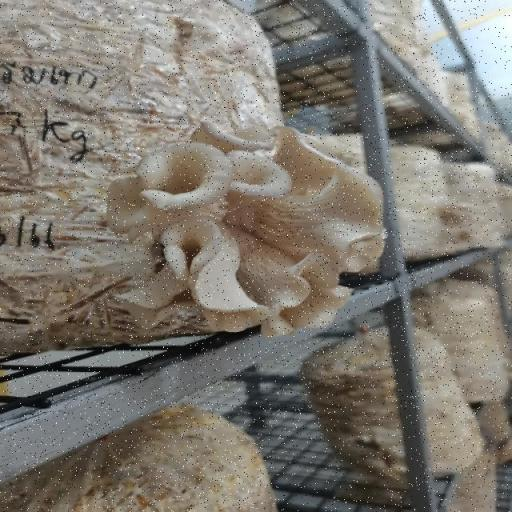White Oyster Mushroom: (104, 118, 389, 341)
